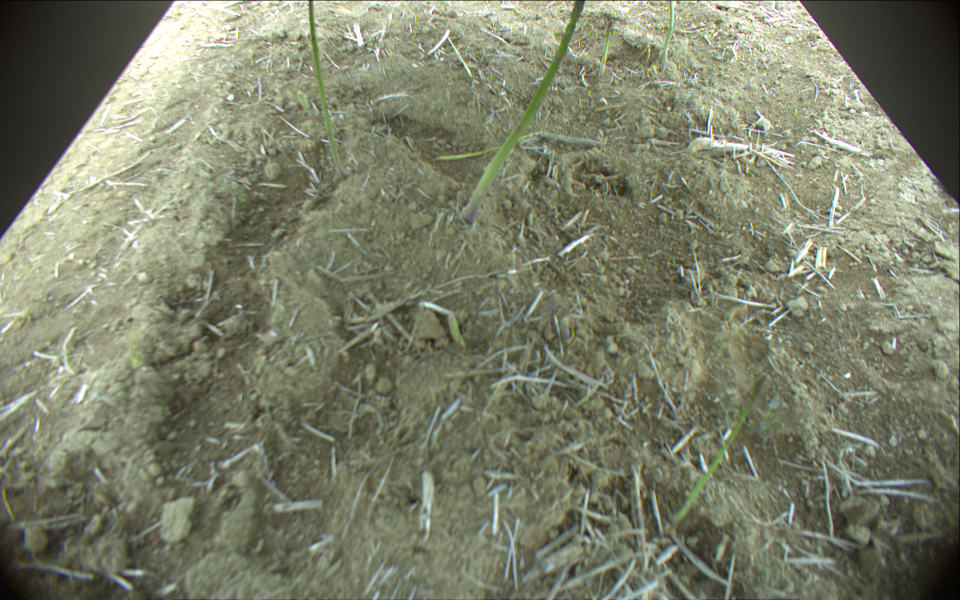aspa: (463, 1, 582, 221), (670, 375, 769, 530), (305, 1, 349, 178), (431, 128, 549, 161), (662, 1, 677, 74), (600, 19, 618, 75), (446, 311, 466, 350)
